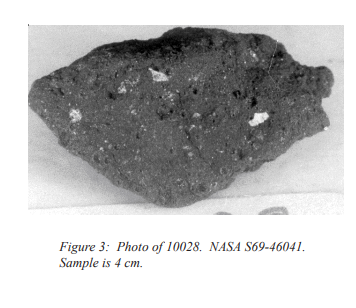Breccia: (30, 25, 343, 218)
